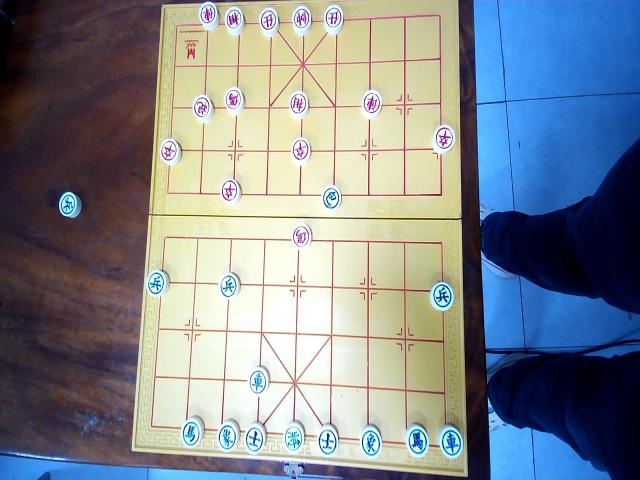piece: (438, 424, 464, 459), (404, 423, 429, 459), (216, 420, 240, 454), (359, 424, 382, 459), (431, 122, 456, 154), (244, 421, 266, 455), (283, 421, 305, 454), (430, 281, 454, 311), (181, 417, 203, 449), (224, 5, 246, 37), (323, 3, 344, 36), (360, 88, 382, 119), (198, 1, 220, 32), (146, 268, 170, 296), (58, 190, 82, 218), (317, 424, 338, 456), (192, 94, 214, 124), (219, 176, 241, 206), (258, 7, 279, 38), (292, 4, 312, 36), (248, 365, 269, 395), (160, 138, 182, 166), (224, 86, 244, 116), (289, 89, 309, 119), (218, 272, 240, 299), (291, 136, 311, 165), (292, 221, 312, 250), (321, 184, 341, 211)
